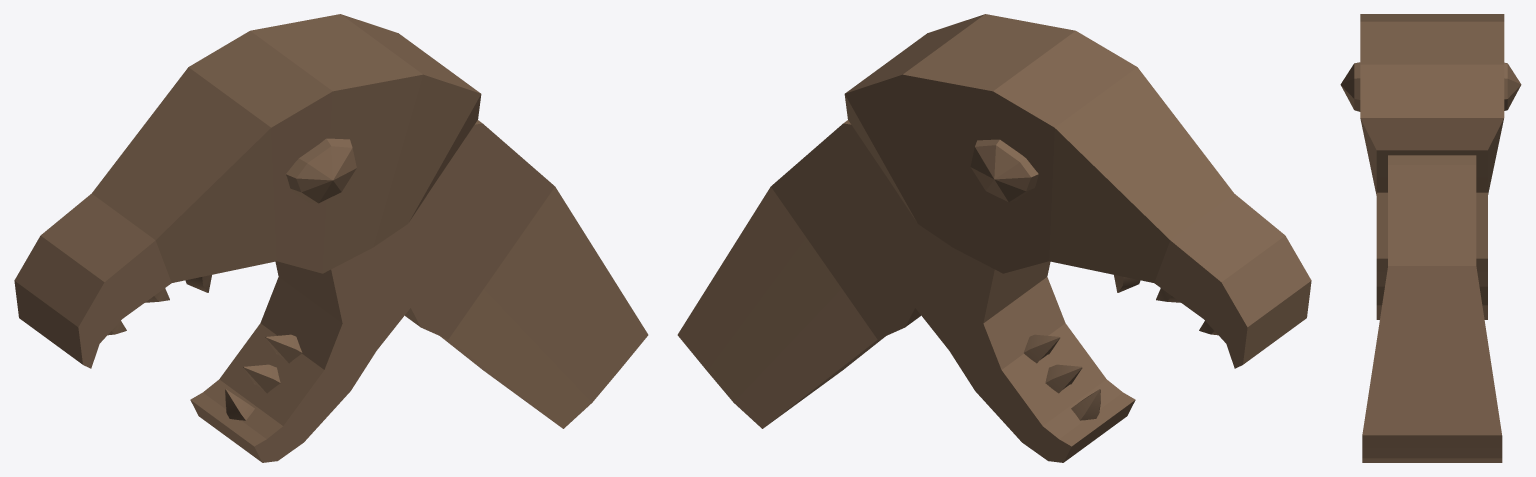
Rendered from SM_dragonhead_wooden_norse_02.fbx.
The picture shows the model from 3 angles, left to right: view 1: azimuth 30°, elevation 25°; view 2: azimuth 150°, elevation 25°; view 3: azimuth 270°, elevation 25°; orthographic projection. The views are drawn at different scales.
Visible parts, largest first — view 1: Object492; view 2: Object492; view 3: Object492.
Boxes of the visible parts, x1,y1,x2,y2 form: Object492: (14,14,648,462); Object492: (677,14,1311,462); Object492: (1340,14,1521,462).
Bounding box in the file's own units: 67.51 × 45.37 × 21.69.
